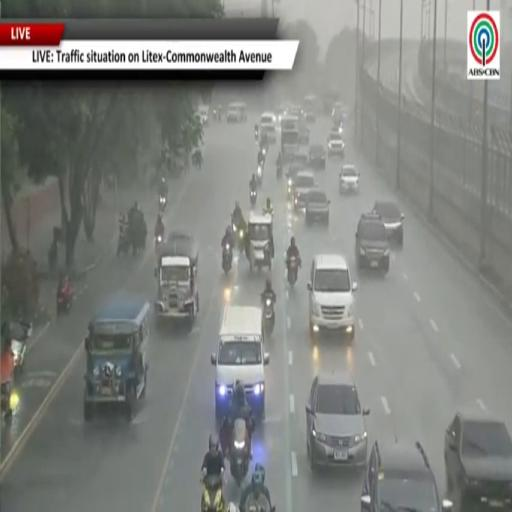car: (444, 408, 511, 511), (211, 306, 269, 419), (361, 442, 452, 511), (306, 371, 369, 470), (307, 254, 357, 340), (355, 214, 389, 273), (373, 201, 404, 246), (162, 231, 199, 266), (287, 149, 309, 199), (305, 189, 330, 225), (294, 171, 316, 210), (339, 165, 359, 194), (260, 112, 276, 142), (287, 166, 301, 200), (309, 144, 326, 169), (327, 132, 344, 157), (290, 149, 309, 170), (332, 102, 346, 130), (227, 103, 247, 122), (299, 120, 309, 146), (288, 105, 303, 120), (198, 105, 209, 125), (277, 104, 287, 122), (304, 107, 315, 122)
jeepney: (84, 296, 150, 422), (155, 232, 199, 329), (246, 212, 273, 270)
motorcycle: (230, 419, 250, 486), (9, 320, 32, 378), (201, 474, 224, 511), (57, 283, 74, 315), (0, 381, 12, 421), (263, 297, 275, 336), (232, 220, 245, 251), (286, 256, 299, 286), (48, 239, 58, 272), (117, 230, 130, 255), (222, 244, 232, 275), (246, 506, 275, 511), (256, 166, 263, 185), (159, 196, 167, 212), (155, 234, 163, 250), (262, 207, 273, 217), (250, 190, 257, 205), (277, 164, 282, 179), (255, 125, 258, 141)
truck: (281, 116, 299, 163)
